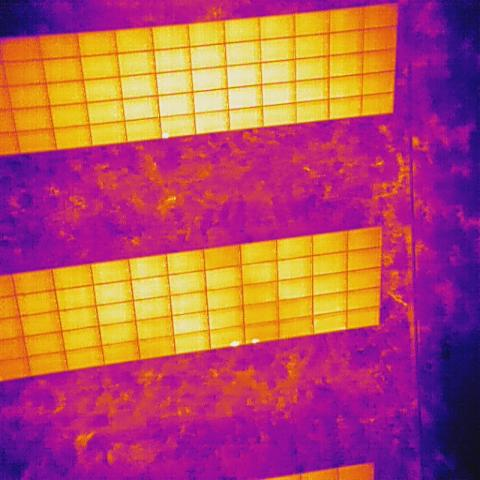fault: (229, 340, 239, 349), (161, 130, 170, 138), (250, 337, 259, 345)
